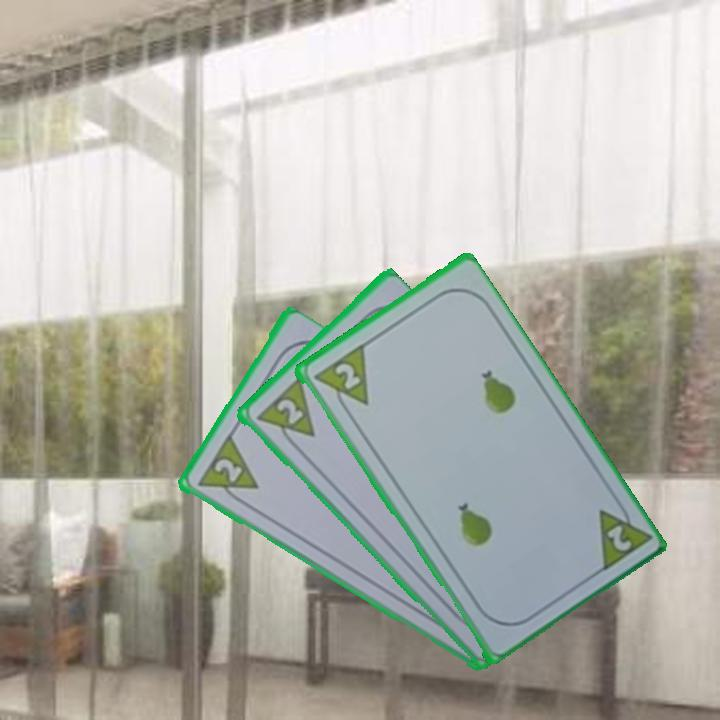2p: (309, 341, 372, 419), (209, 454, 245, 487), (272, 395, 306, 428), (602, 521, 634, 555)
